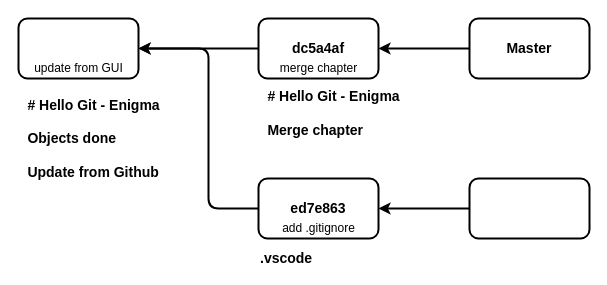
Some shapes in this 607 by 285 pixel diagram are drawn without their labels. Here are the shapes that lost their labels. From the top down, the box of each, then its label:
(17, 17, 139, 79): 1a2977
(468, 177, 590, 239): Dev
